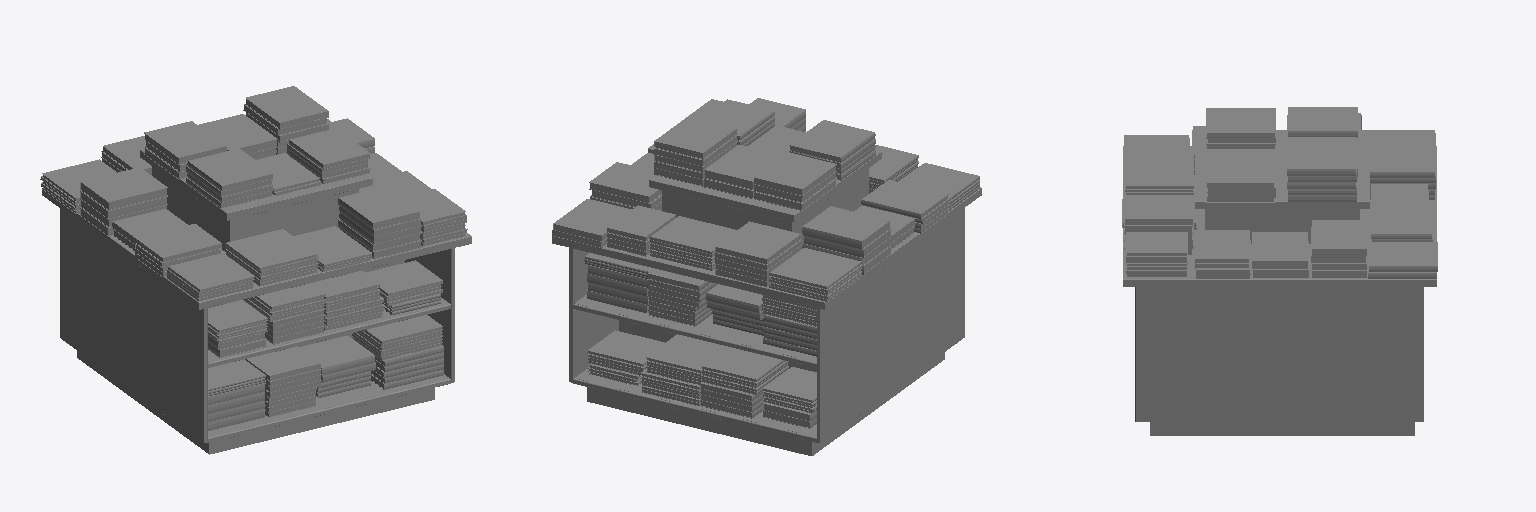
Rendered from libros.obj.
3 views of the same model, side by side, from view 1: azimuth 30°, elevation 25°; view 2: azimuth 150°, elevation 25°; view 3: azimuth 270°, elevation 25° (orthographic).
Visible parts, largest first — view 1: books_tabl, Expositor1; view 2: books_tabl, Expositor1; view 3: Expositor1, books_tabl.
Part boxes in pixels (left/top/right/bottom): books_tabl: left=40, top=86, right=467, bottom=430; Expositor1: left=42, top=149, right=471, bottom=454; books_tabl: left=552, top=98, right=979, bottom=428; Expositor1: left=552, top=125, right=981, bottom=455; Expositor1: left=1123, top=130, right=1436, bottom=435; books_tabl: left=1122, top=107, right=1437, bottom=278.
Size of the model in its own units: 1464 by 1259 by 1453.